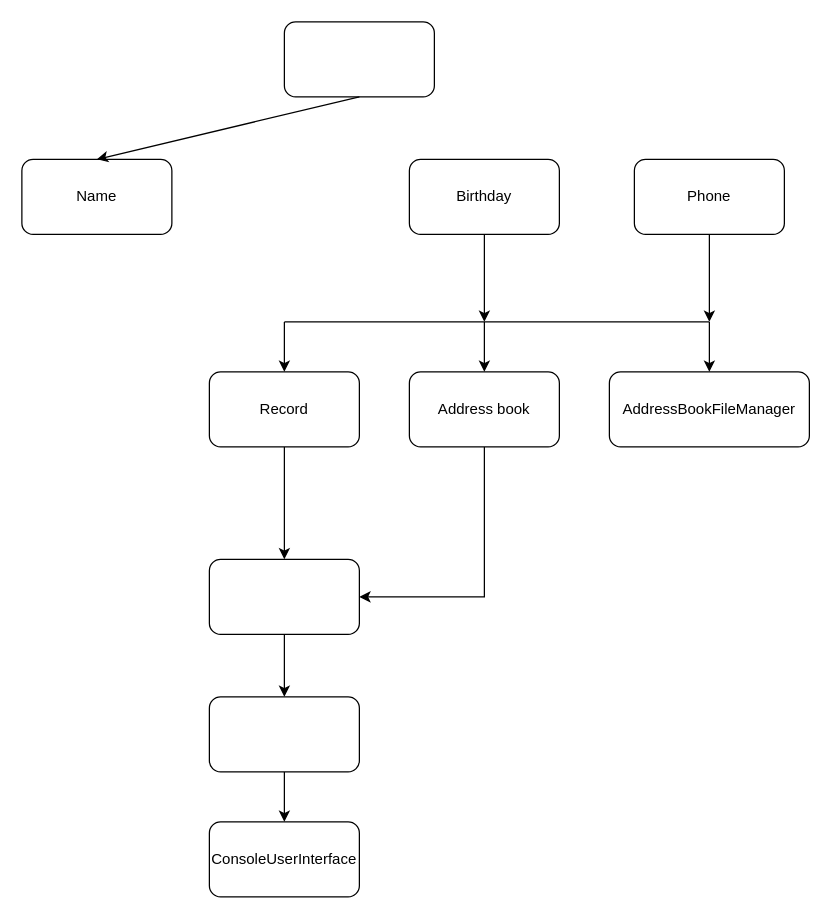
The diagram is 831 pixels wide and 919 high, and some of its shapes have lost their labels. Each missing label, with the centre of its shape:
Field: point 358,59
UserDict: point 283,596
UserInterface: point 283,734
